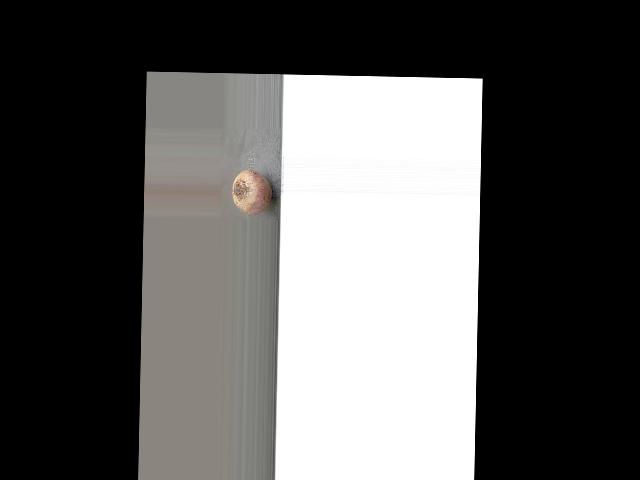beet: (232, 170, 272, 216)
